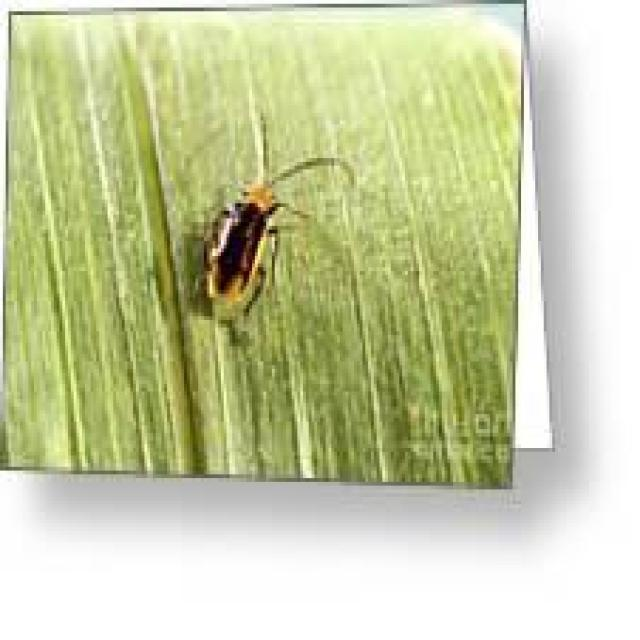trips: (194, 109, 333, 322)
